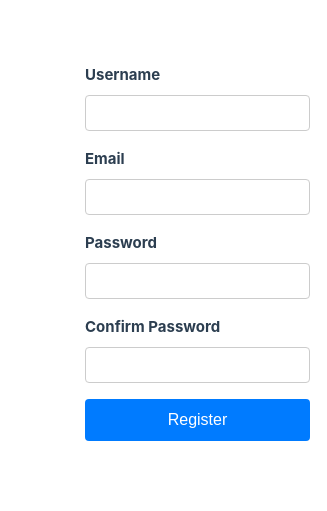
Test: Registration Form Integration Tests › Form Validation Integration › validates password and confirmation together
The image size is (327, 511).
# Test password validation combination
Type "pass123" into the password field labelled "Password" at point(198, 281), box [85, 263, 310, 299]
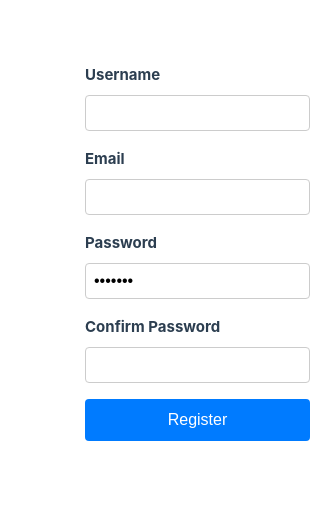
Type "pass456" into the password field with id "confirmPassword" at point(198, 365), box [85, 347, 310, 383]
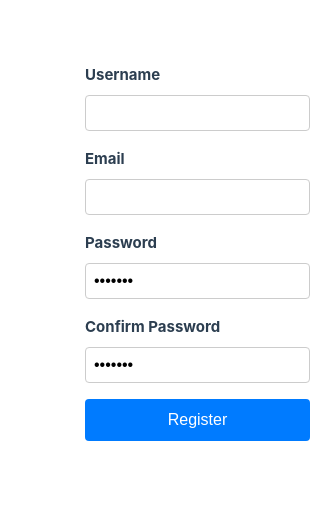
Submit the form, box [85, 65, 310, 441]
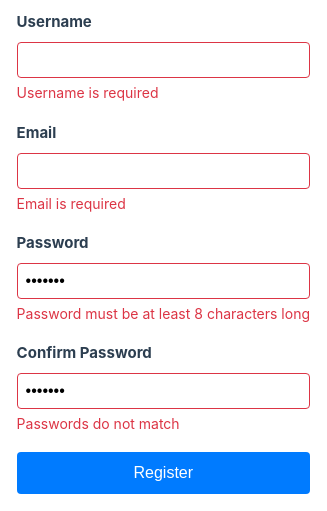
Expected: the form shows "Password must be at least 8 characters long", [17, 305, 310, 322]
Expected: the form shows "Passwords do not match", [17, 415, 180, 432]
